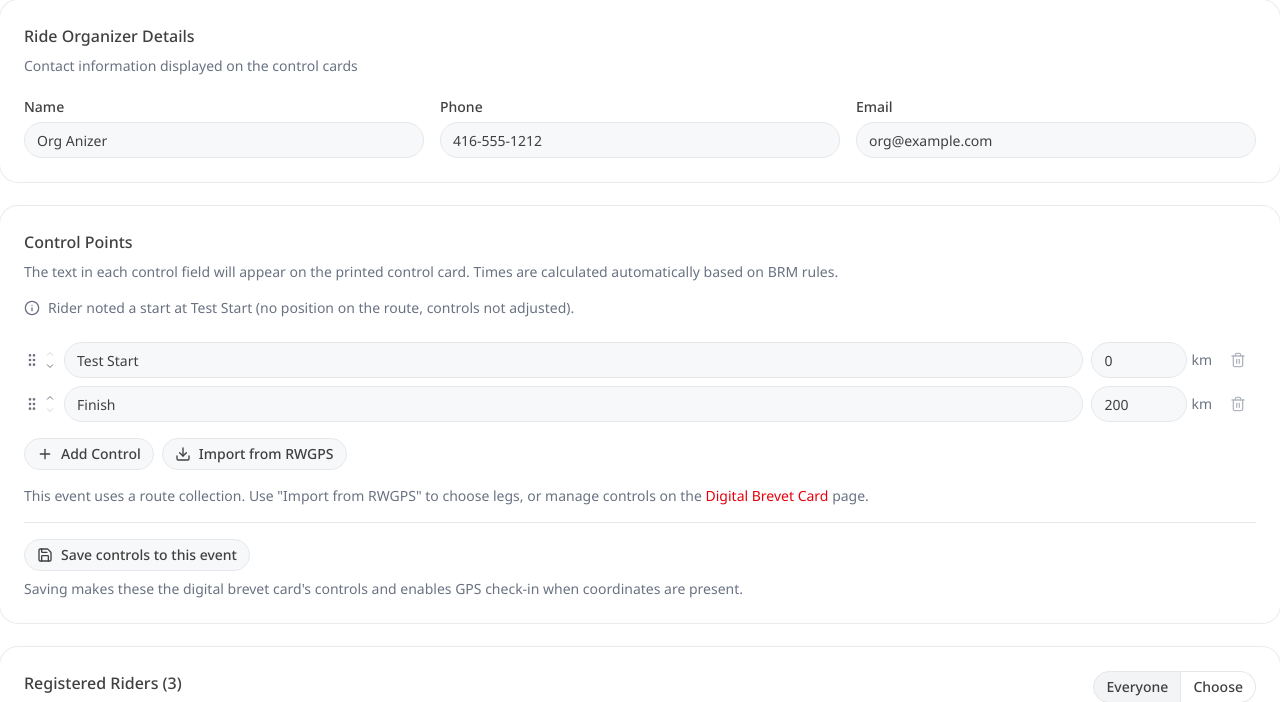
Scenario: ControlCardsForm collection leg import › imports the selected legs, replaces the control list with leg headings, and saves immediately
Click the button "Import from RWGPS": [254, 454] box [162,438,346,470]
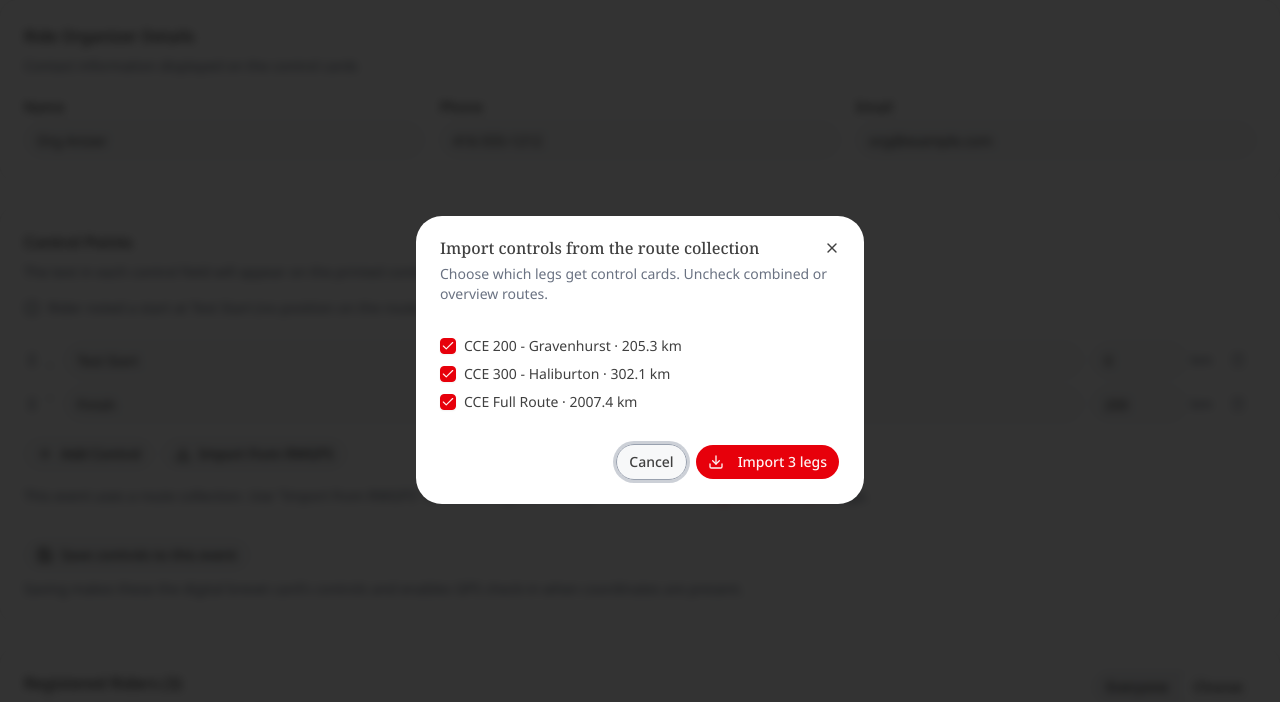
# Uncheck the combined/overview route, then import the remaining two legs.
Click the checkbox named "CCE Full Route" next to "CCE Full Route": [448, 402] box [440,394,456,410]
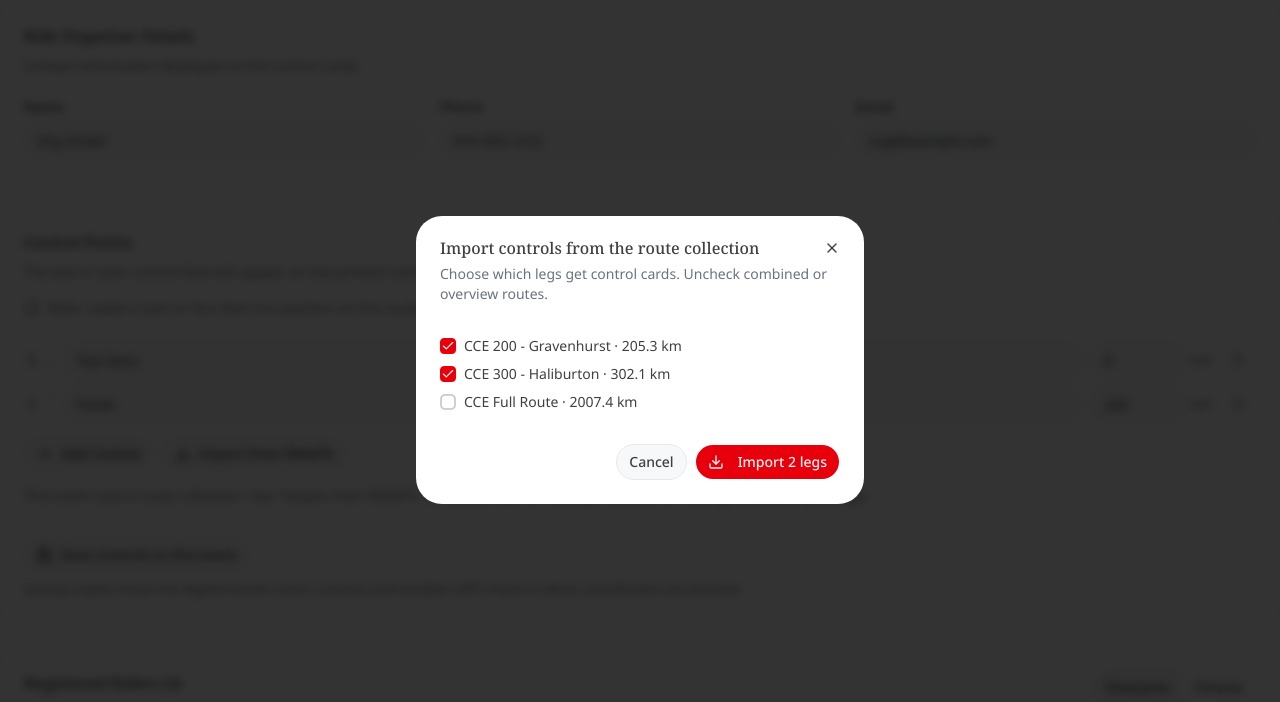
Click the button "Import 2 legs": [767, 462] box [695,444,840,480]
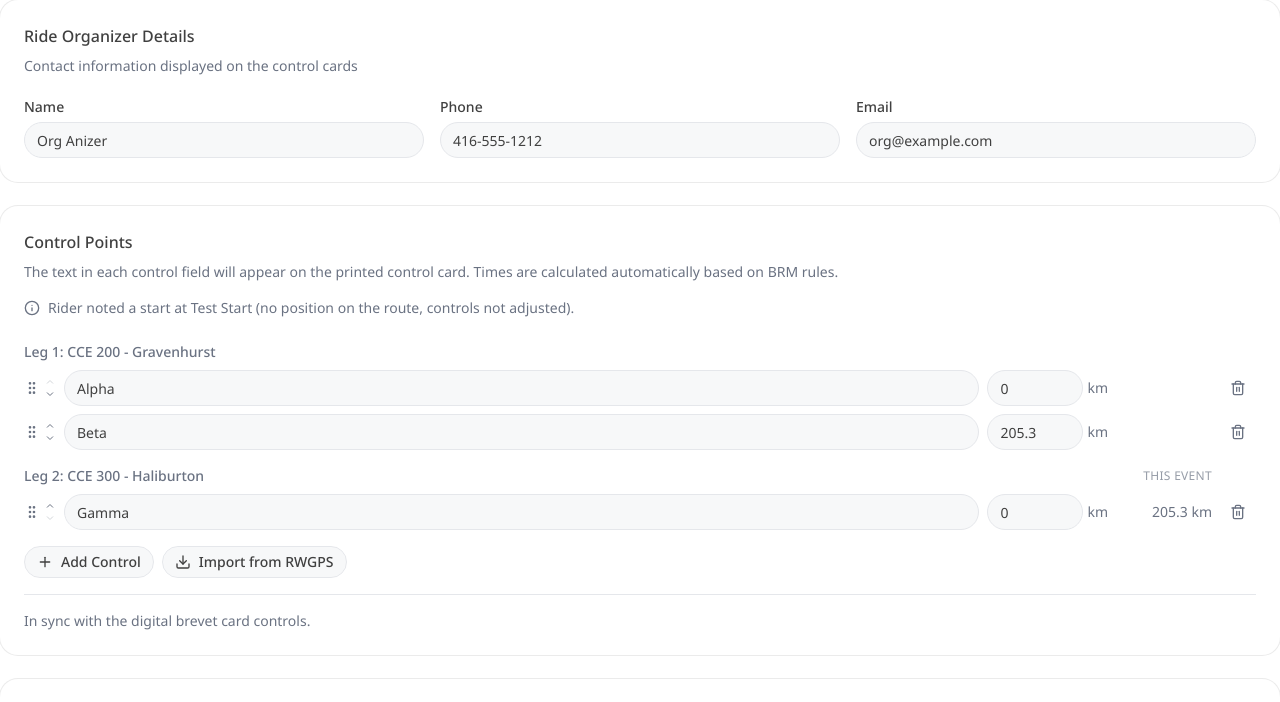
Now the text "Leg 1: CCE 200 - Gravenhurst" is shown, box [24,342,216,361]
Now the text "Leg 2: CCE 300 - Haliburton" is shown, box [24,466,204,485]
